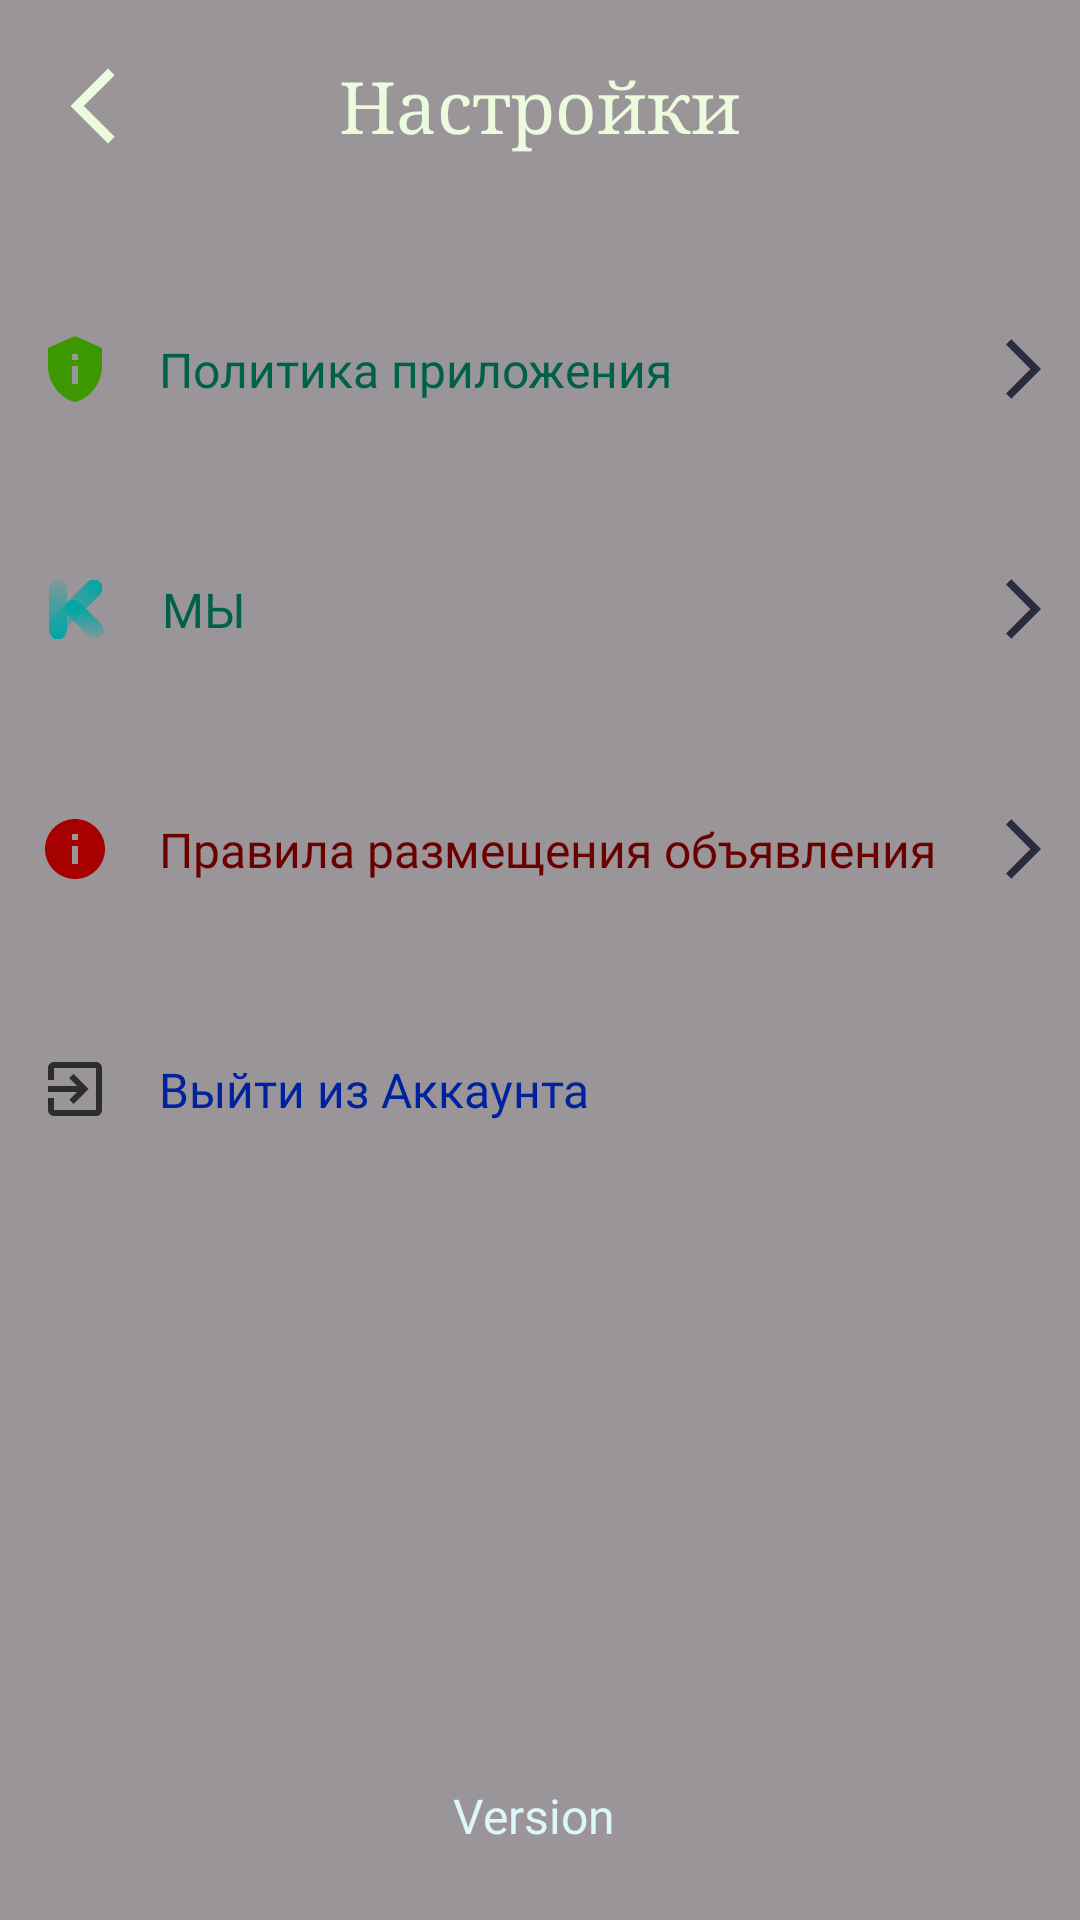

Screen size 1080x1920. Icon name, then its center in pixels as (x=x, y=y):
back: (x=93, y=106)
exit to app: (x=75, y=1089)
info: (x=75, y=849)
privacy tip: (x=75, y=369)
